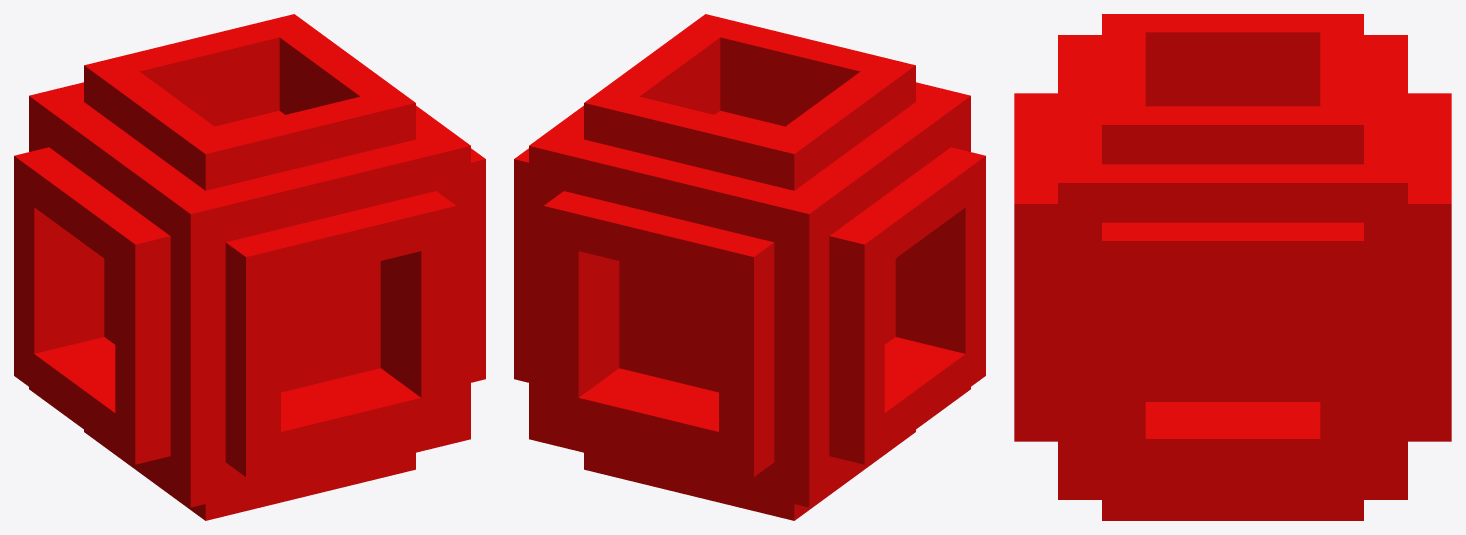
Rendered from Basic_Asset1.fbx.
The picture shows the model from 3 angles, left to right: view 1: azimuth 30°, elevation 25°; view 2: azimuth 150°, elevation 25°; view 3: azimuth 270°, elevation 25°; orthographic projection. The views are drawn at different scales.
Parts seen in each view (by area): view 1: TutorialShape; view 2: TutorialShape; view 3: TutorialShape.
Part boxes in pixels (box(x1,y1,x2,y2)): TutorialShape: box(14, 14, 485, 520); TutorialShape: box(514, 14, 985, 520); TutorialShape: box(1014, 14, 1451, 520).
Size of what is drawn, in the model's own units: 200 by 200 by 200.
